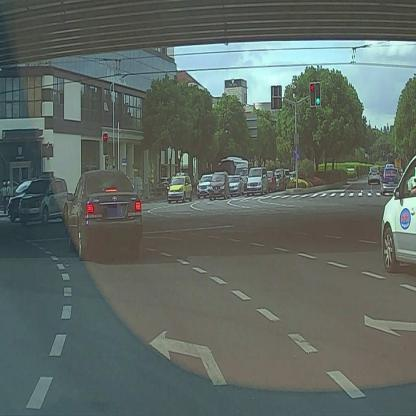Green Light: (316, 83, 322, 108)
